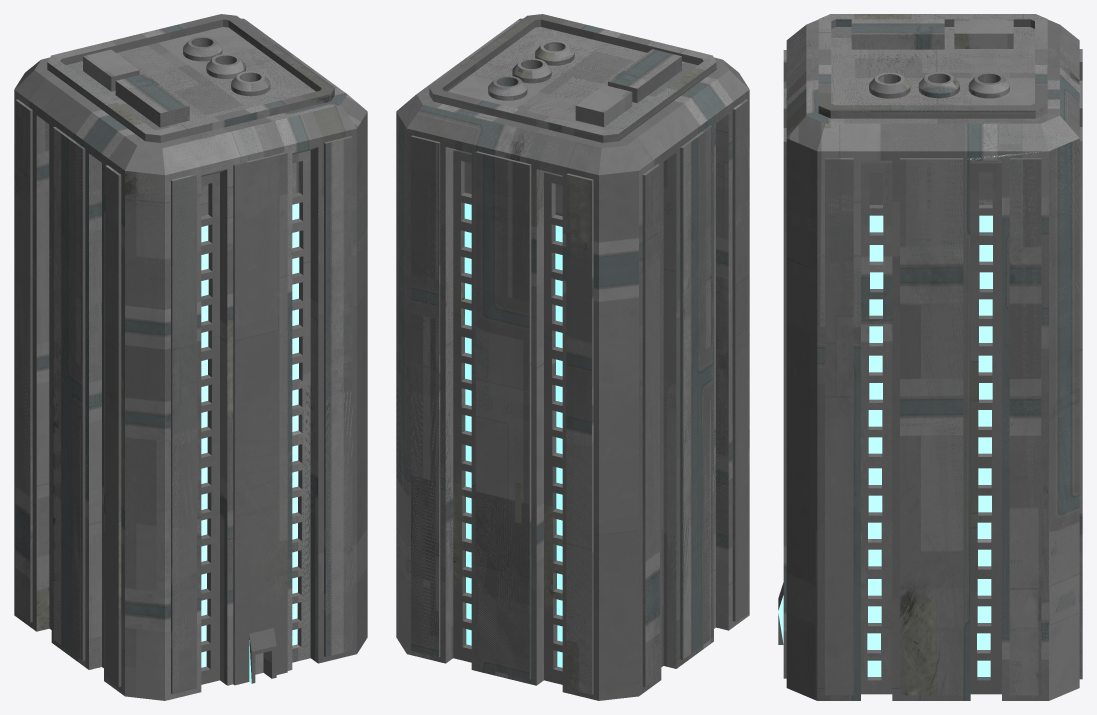
The model's file is Building3.fbx.
The picture shows the model from 3 angles, left to right: view 1: azimuth 30°, elevation 25°; view 2: azimuth 150°, elevation 25°; view 3: azimuth 270°, elevation 25°; orthographic projection. The views are drawn at different scales.
Parts seen in each view (by area): view 1: Building000; view 2: Building000; view 3: Building000.
Boxes of the visible parts, bbox=[...] form: Building000: bbox=[14, 14, 367, 700]; Building000: bbox=[396, 14, 749, 700]; Building000: bbox=[778, 14, 1082, 700].
Size of the model in its own units: 20.7 by 44.6 by 21.08.
Materials: 2 (1 with a texture image).
